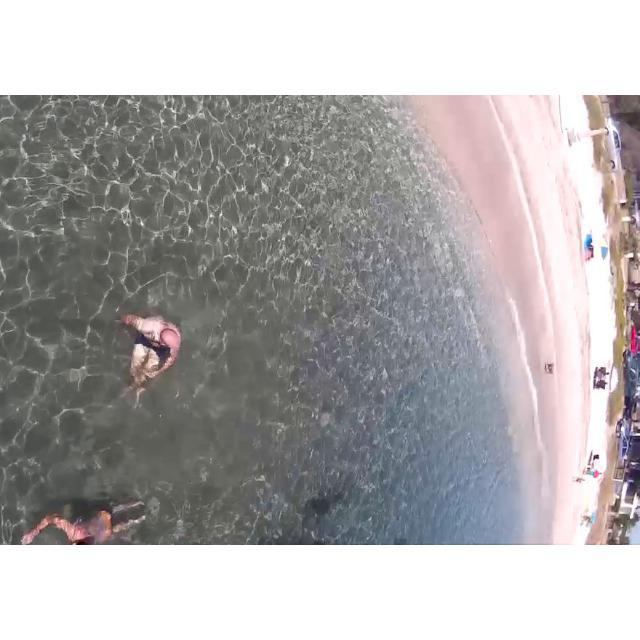human: (119, 300, 193, 425)
